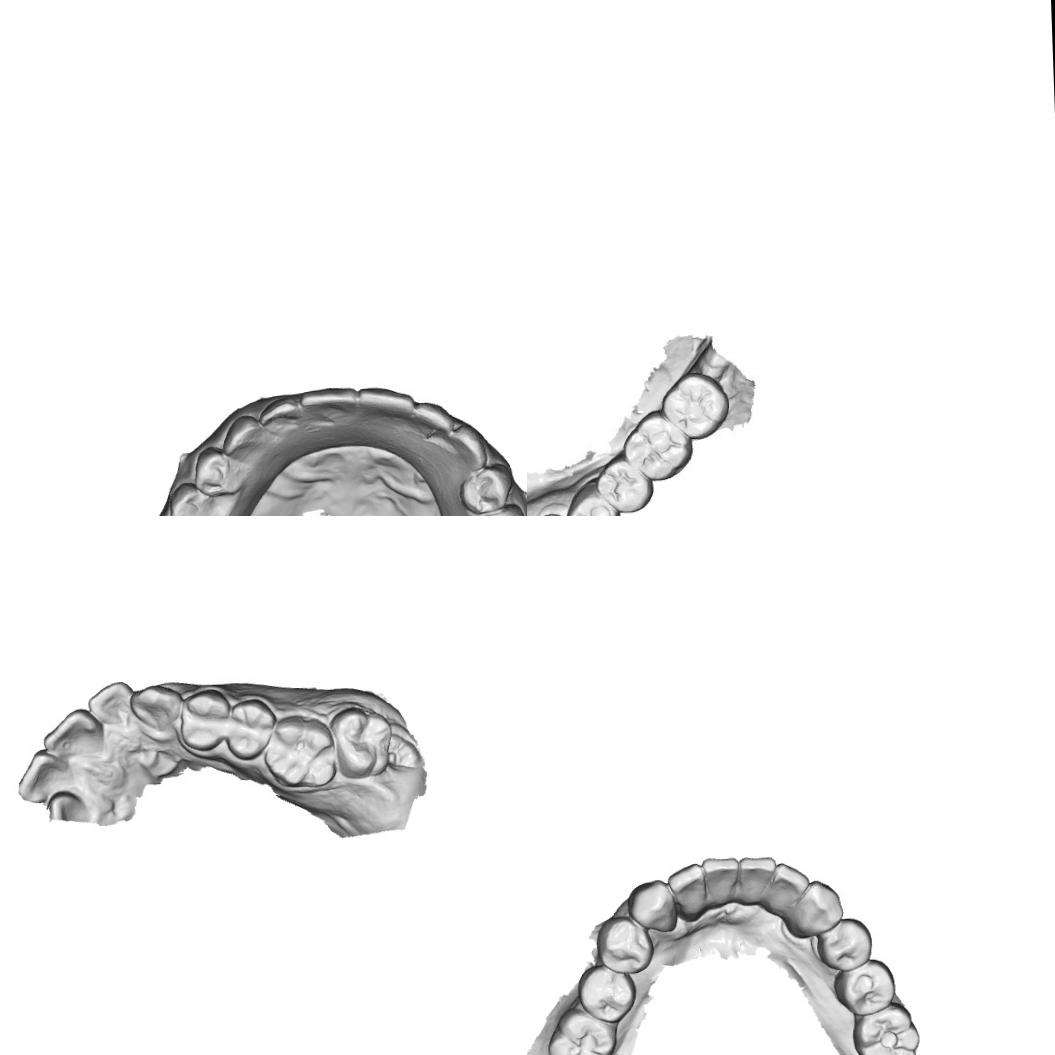canine: (784, 878, 846, 940), (129, 677, 187, 742), (442, 419, 496, 475), (627, 877, 678, 936), (218, 412, 270, 463)
incisor: (40, 706, 108, 764), (13, 748, 78, 804), (296, 382, 362, 432), (356, 384, 416, 432), (84, 679, 136, 734), (411, 397, 459, 451), (766, 858, 812, 912), (666, 861, 706, 922), (699, 853, 742, 907), (255, 394, 306, 438), (736, 851, 776, 907)
molar: (263, 708, 344, 794), (325, 706, 394, 780), (664, 374, 732, 442), (624, 413, 691, 479), (849, 1002, 921, 1055), (544, 1005, 619, 1055)
premolar: (575, 960, 641, 1026), (592, 912, 658, 976), (832, 958, 898, 1018), (179, 688, 234, 759), (454, 461, 521, 516), (812, 916, 876, 973), (596, 458, 656, 515), (224, 696, 275, 763), (190, 442, 244, 496), (165, 480, 219, 516), (566, 488, 620, 516)
